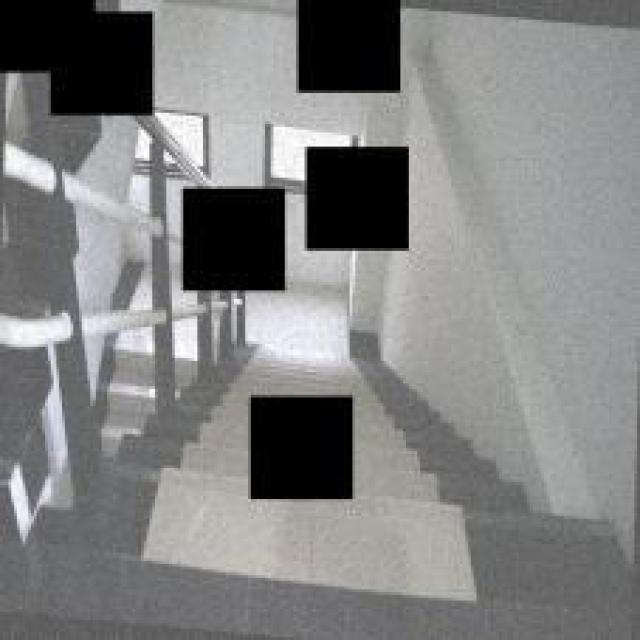downstair: (362, 390, 503, 638)
